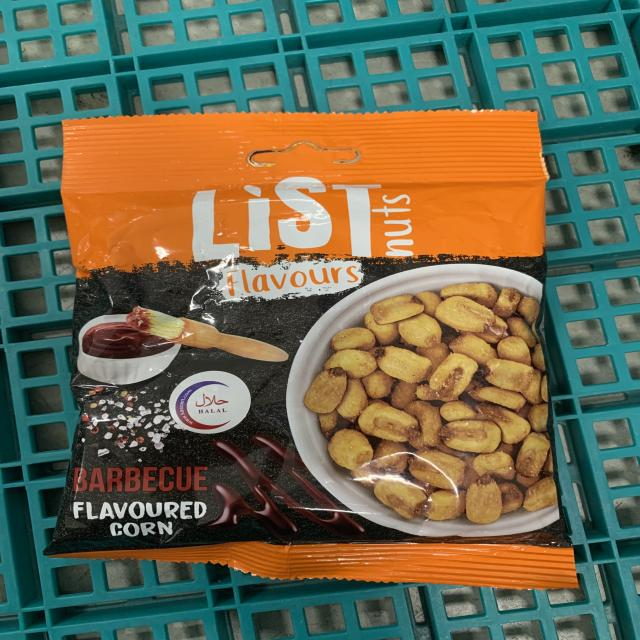object_name: (72, 121, 556, 568)
